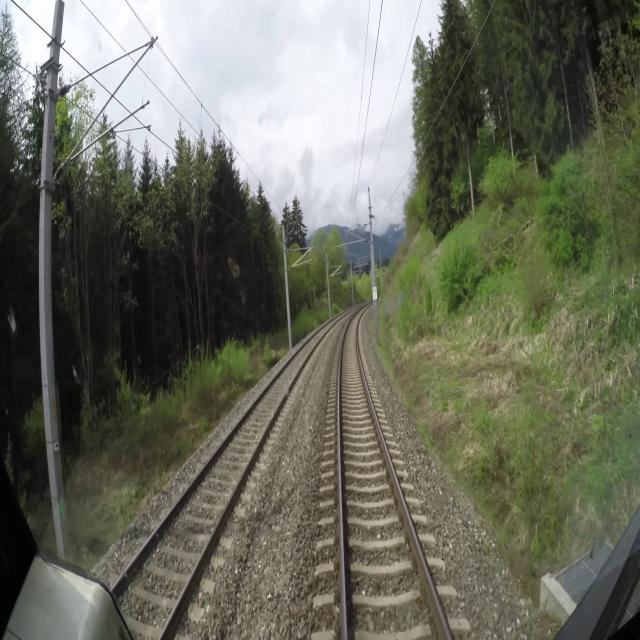rail-track: (114, 321, 333, 639), (340, 310, 448, 639)
